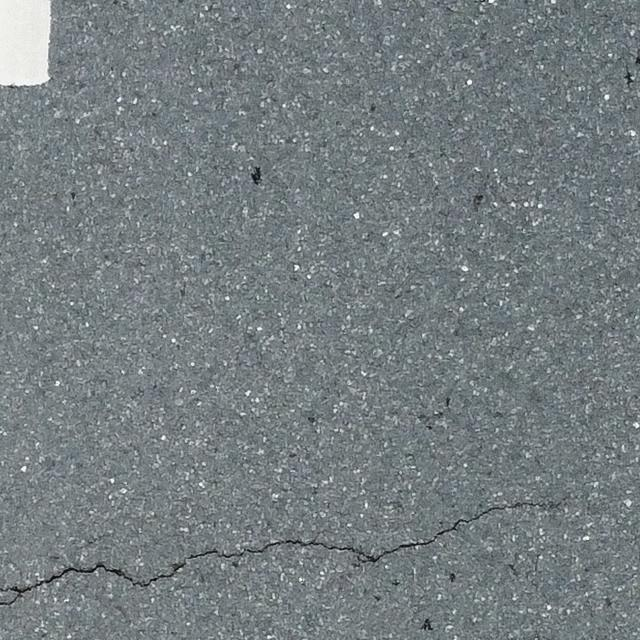TransverseCrack: (1, 501, 544, 605)
